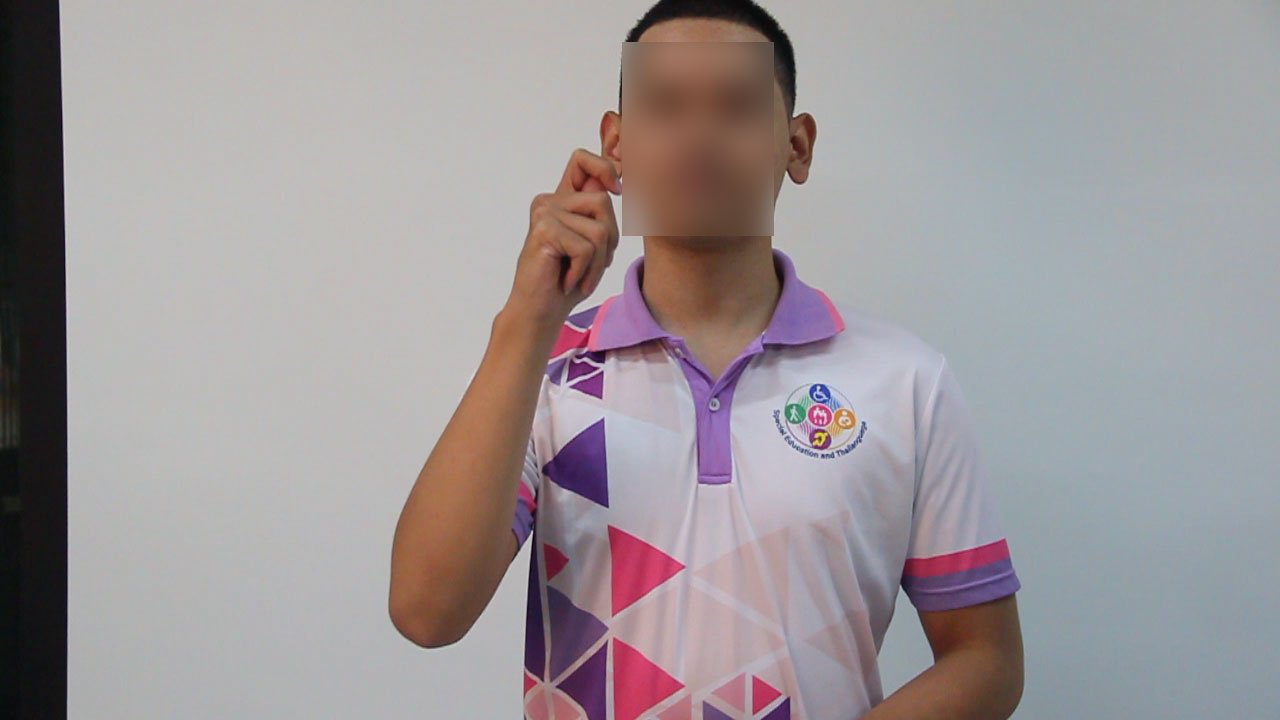or: (509, 144, 628, 334)
